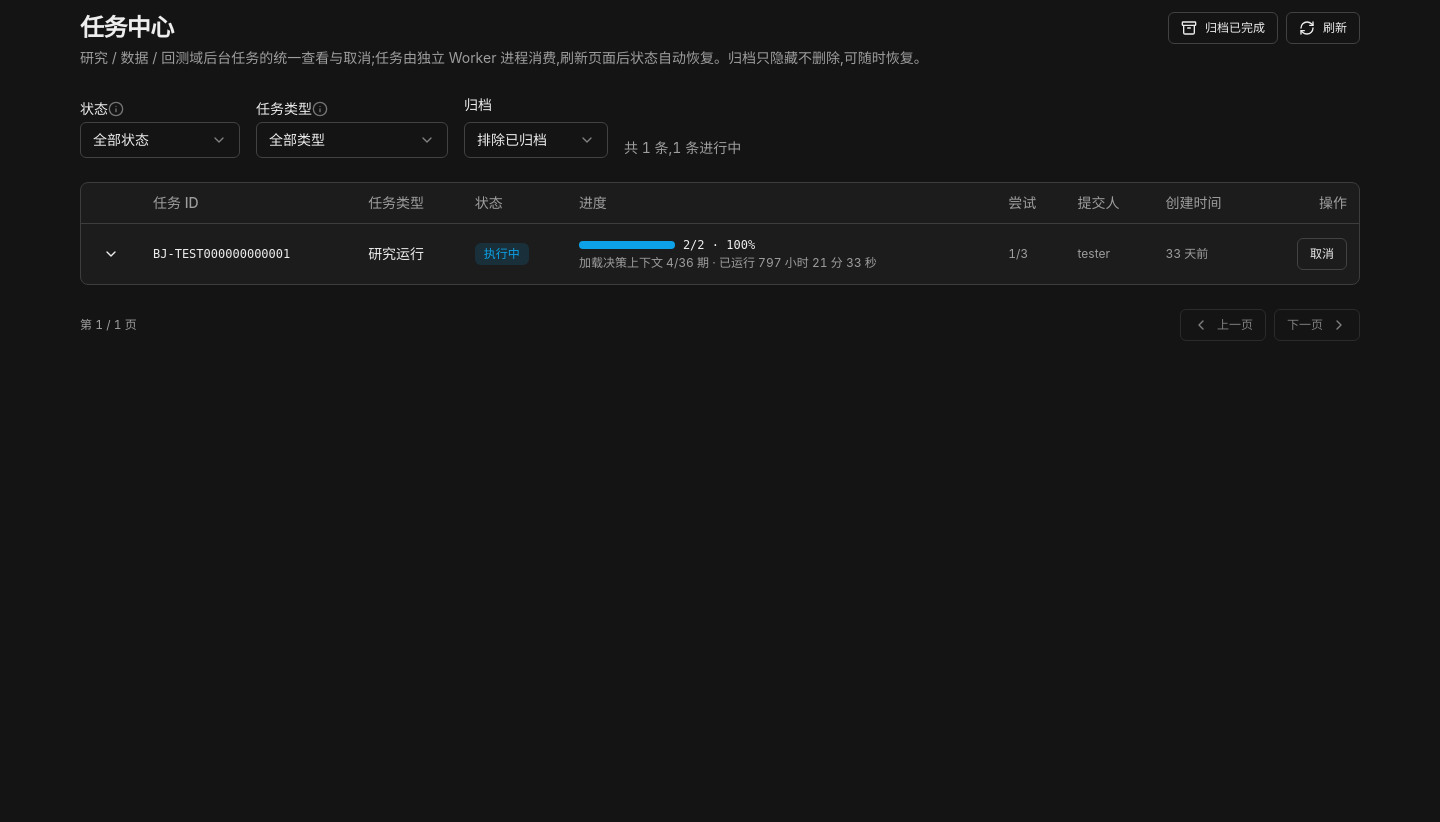
Test: 任务中心页 › 展开 research_run 详情显示 run_status,不一致时告警(issue #306/#308)
Expected: the text "BJ-TEST000000000001" is shown, 141,223 -> 356,284
What coordinates should you click on to do the following:
click the button named "展开任务详情"
I would click on:
 (111, 254)
Its box is 93,236 -> 129,272.
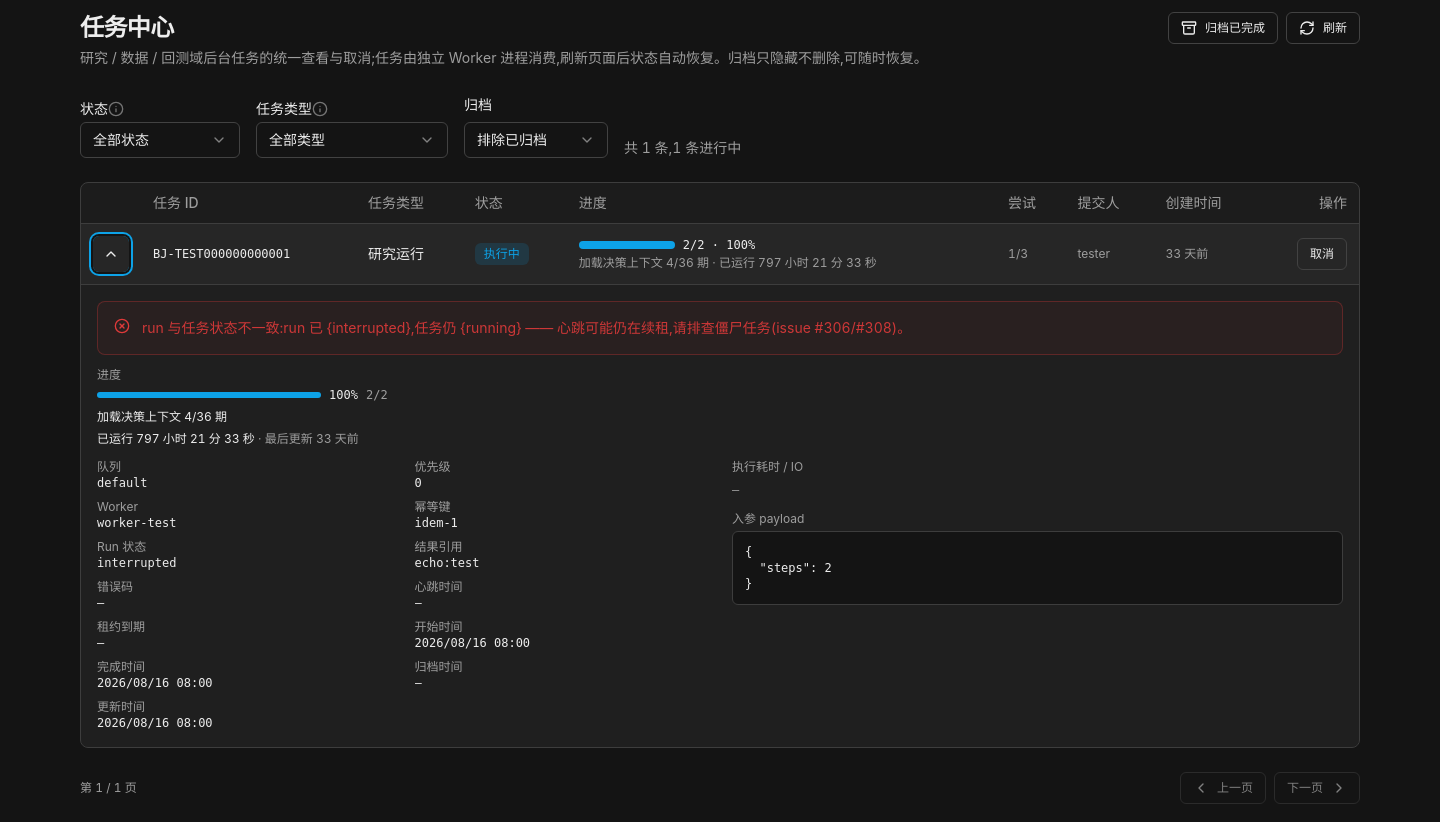
Expected: the text "Run 状态" is shown, 97,538 -> 146,554
Expected: the text "interrupted" is shown, 97,556 -> 176,570
Expected: the text "run 与任务状态不一致" is shown, 142,318 -> 911,336
